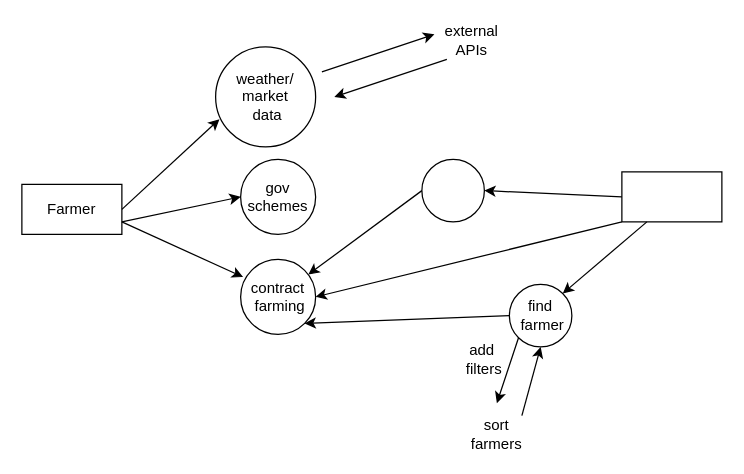
This 744x474 diagram has some shape labels left out. The shapes that lost their labels are listed below. From the top down, each one's box as (x1, y1, x2, y2) in pixels, then its label:
(421, 158, 484, 222): track contract
(621, 171, 722, 222): Company
